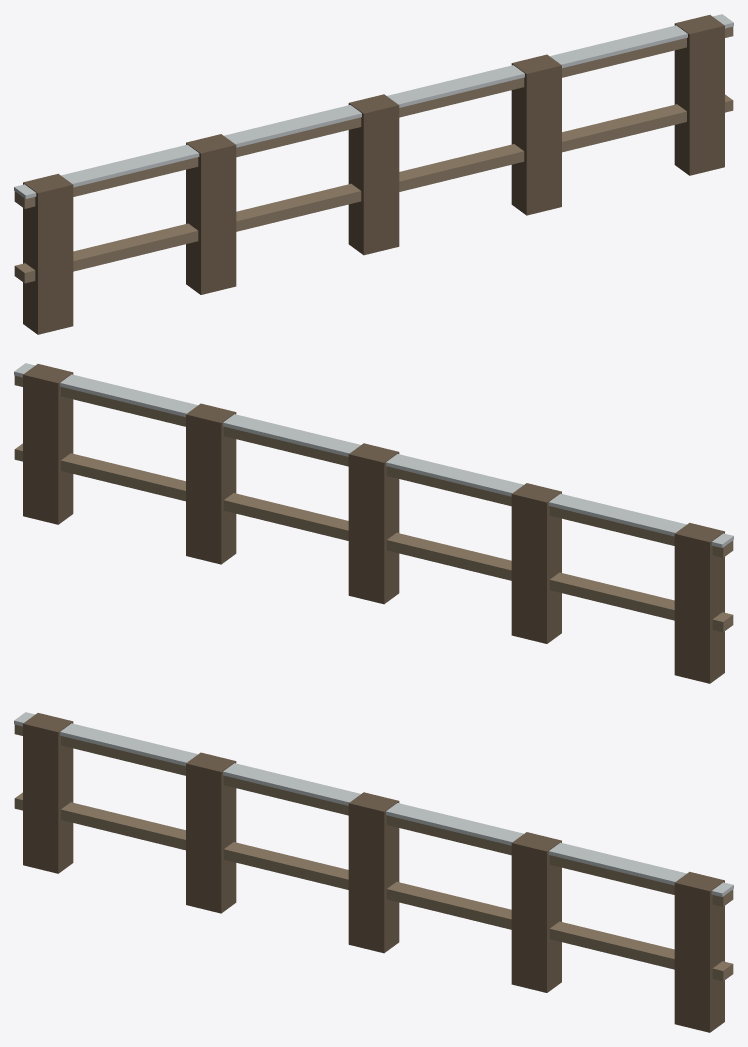
The model's file is skybridge_rail.glb.
3 renders of one model, top to bottom at view 1: azimuth 30°, elevation 25°; view 2: azimuth 150°, elevation 25°; view 3: azimuth 330°, elevation 25°, orthographic.
Visible parts, largest first — view 1: skybridge_rail; view 2: skybridge_rail; view 3: skybridge_rail.
Boxes of the visible parts, x1,y1,x2,y2 form: skybridge_rail: [14, 14, 733, 334]; skybridge_rail: [14, 363, 733, 683]; skybridge_rail: [14, 712, 733, 1032].
Bounding box in the file's own units: 5.76 × 1.1 × 0.2112.
